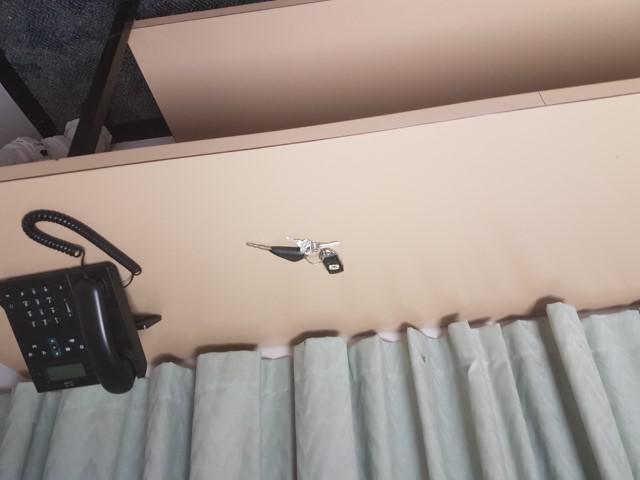key: (244, 240, 306, 265)
